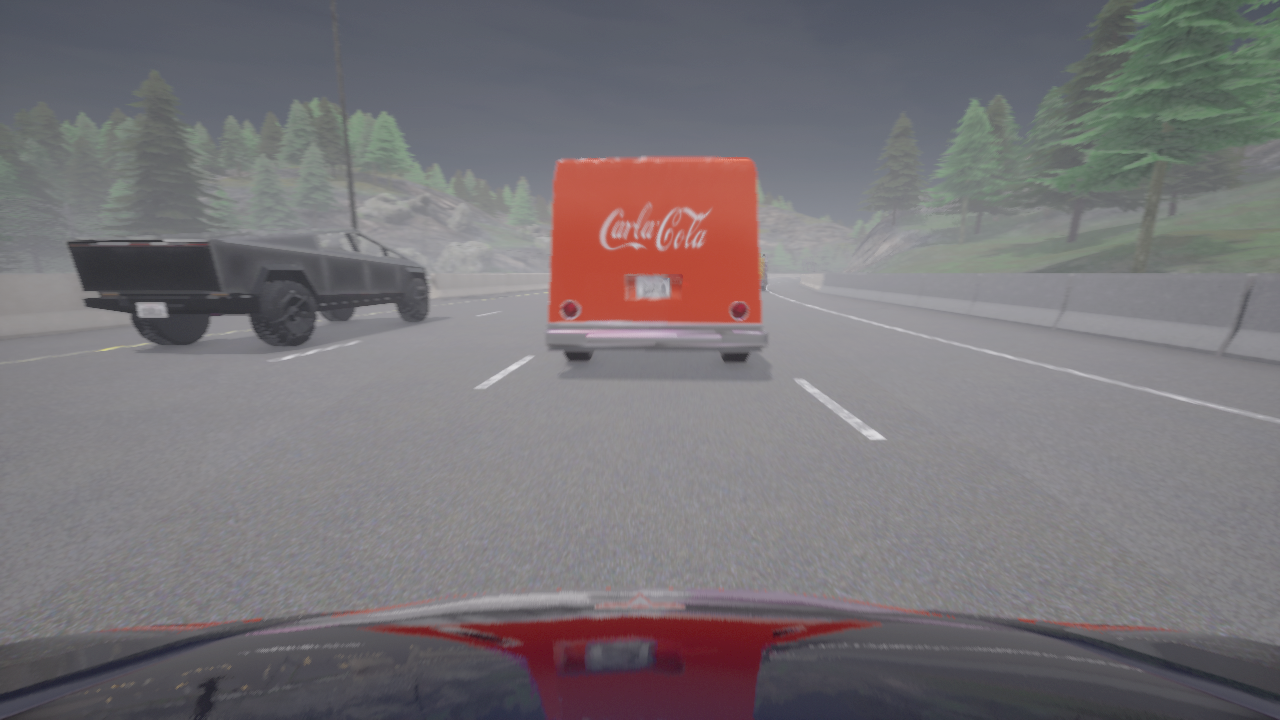cyclist: (0, 588, 1279, 719), (545, 158, 767, 362), (65, 229, 429, 347), (759, 254, 766, 282), (761, 271, 766, 279)
